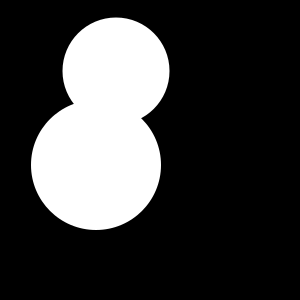rectangle: (31, 100, 161, 230), (62, 17, 169, 125)
triangle: (54, 151, 99, 196)
